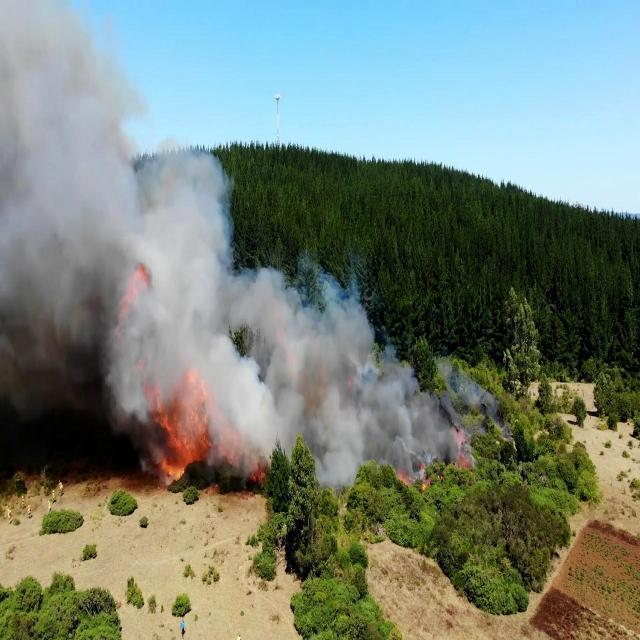Fire: (162, 381, 209, 476)
Smoke: (0, 0, 223, 486), (220, 248, 434, 483)
